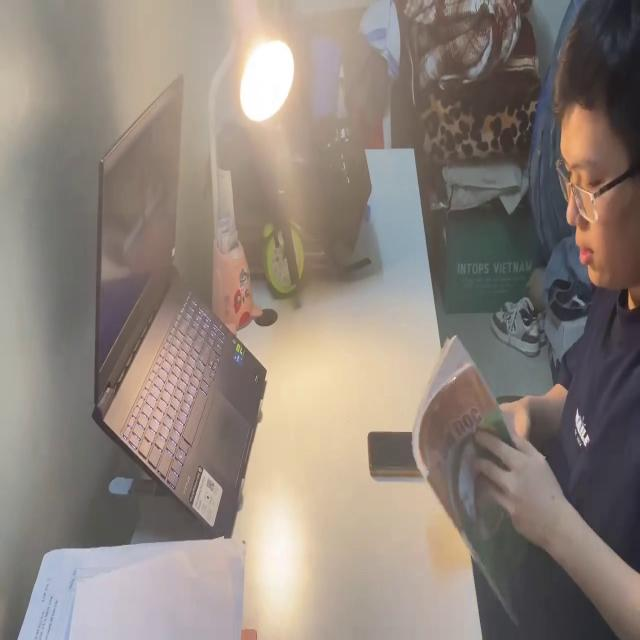book: (411, 328, 534, 634), (19, 539, 251, 640)
laptop: (90, 66, 266, 539)
phone: (365, 425, 424, 478)
student: (463, 0, 640, 640)
